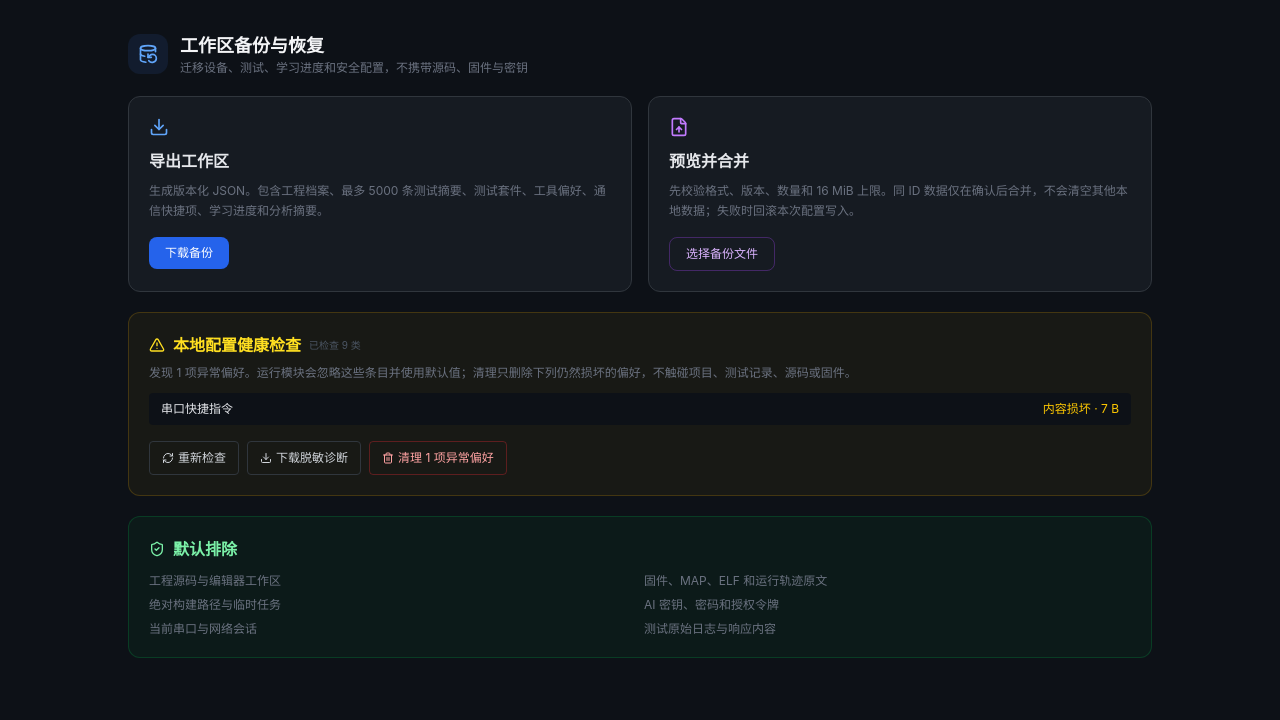
Test: DataManagementPage › shows and explicitly clears only broken local preferences
The image size is (1280, 720).
Expected: the text "串口快捷指令" is shown, [161,401,233,417]
Expected: the text "内容损坏 · 7 B" is shown, [1043,401,1119,417]
Click the button "清理 1 项异常偏好" at (438, 458), box [369,441,507,475]
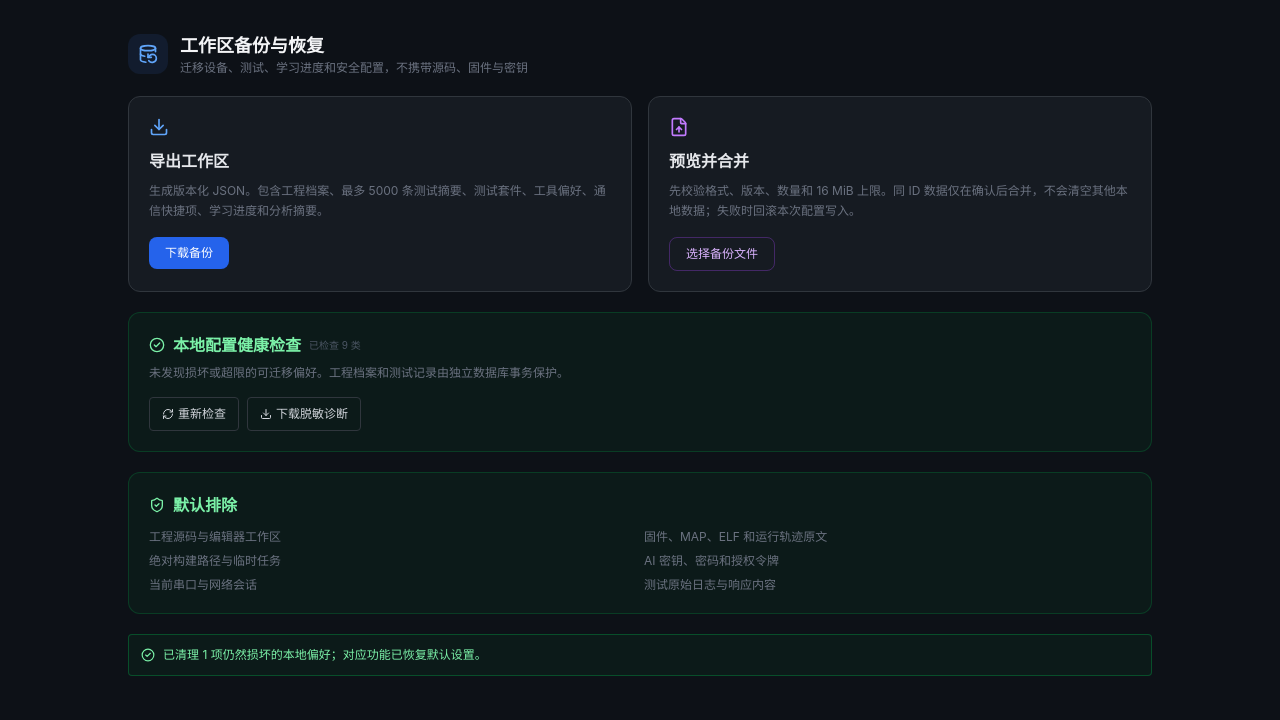
Now the text "未发现损坏或超限的可迁移偏好。工程档案和测试记录由独立数据库事务保护。" is shown, box [149,365,569,380]
Now the text "已清理 1 项仍然损坏的本地偏好；对应功能已恢复默认设置。" is shown, box [128,634,1152,676]
